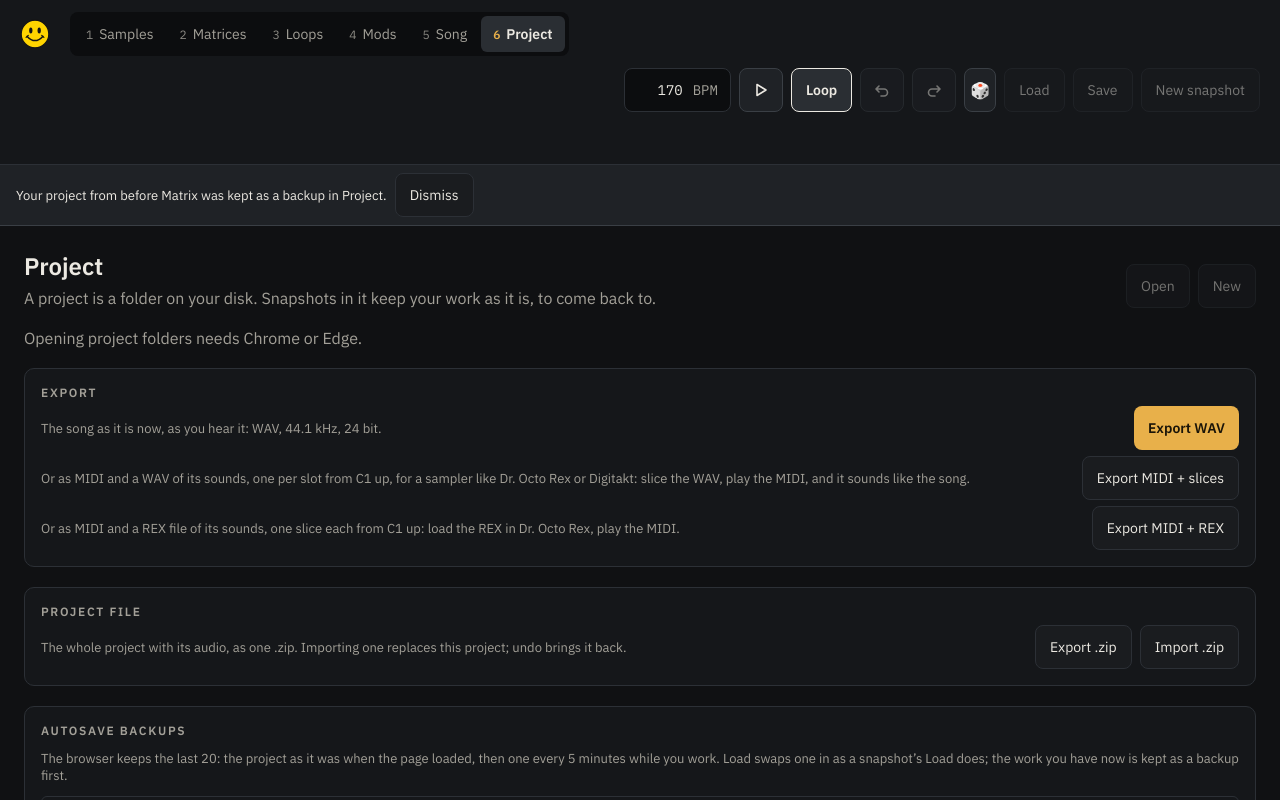
an autosave from before Matrix › says it was kept as a backup, dismissably, and lists that backup at once
Check: the message shows "Your project from before Matrix was kept as a backup in Project.", box [16, 186, 387, 204]
What coordinates should you click on to do the following:
click the button with aria-label "Dismiss notice"
I would click on:
 (434, 195)
Its box is [395, 173, 474, 217].
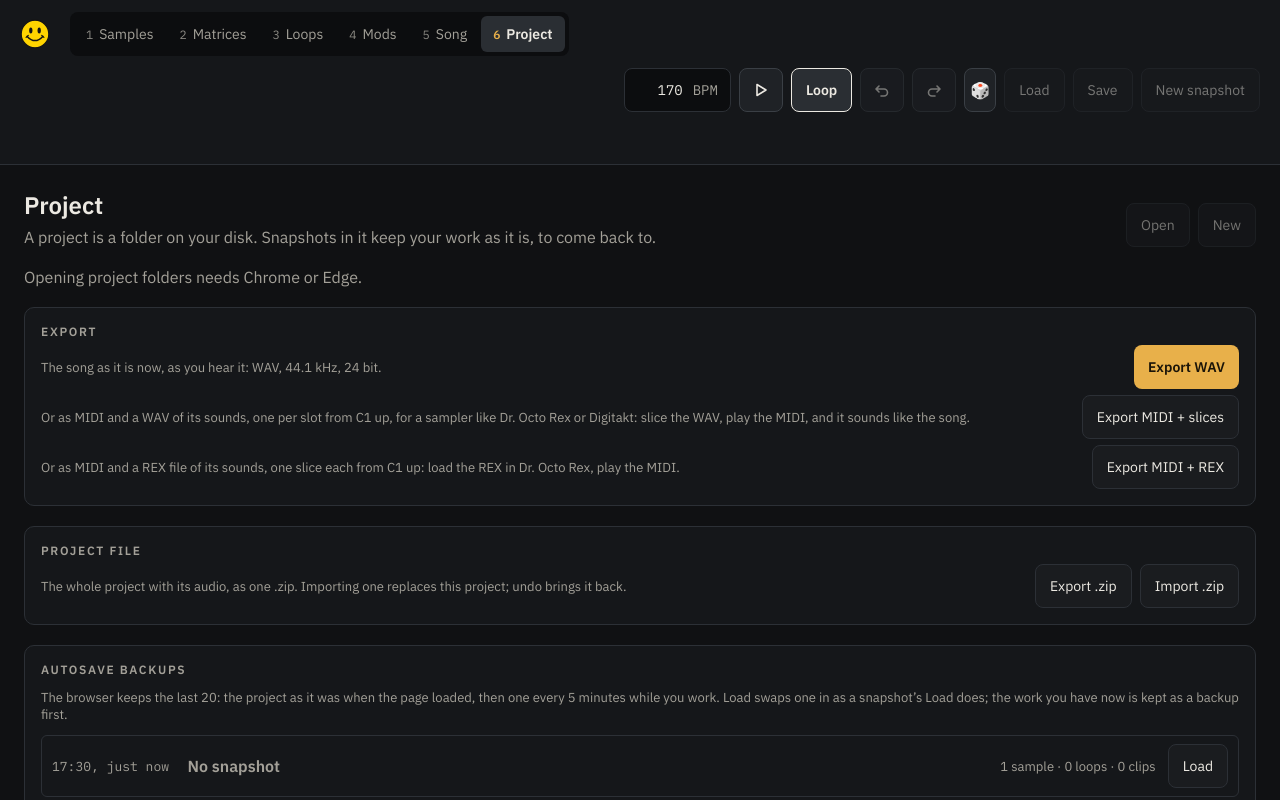
Check: the message "Your project from before Matrix was kept as a backup in Project. Dismiss" is gone
